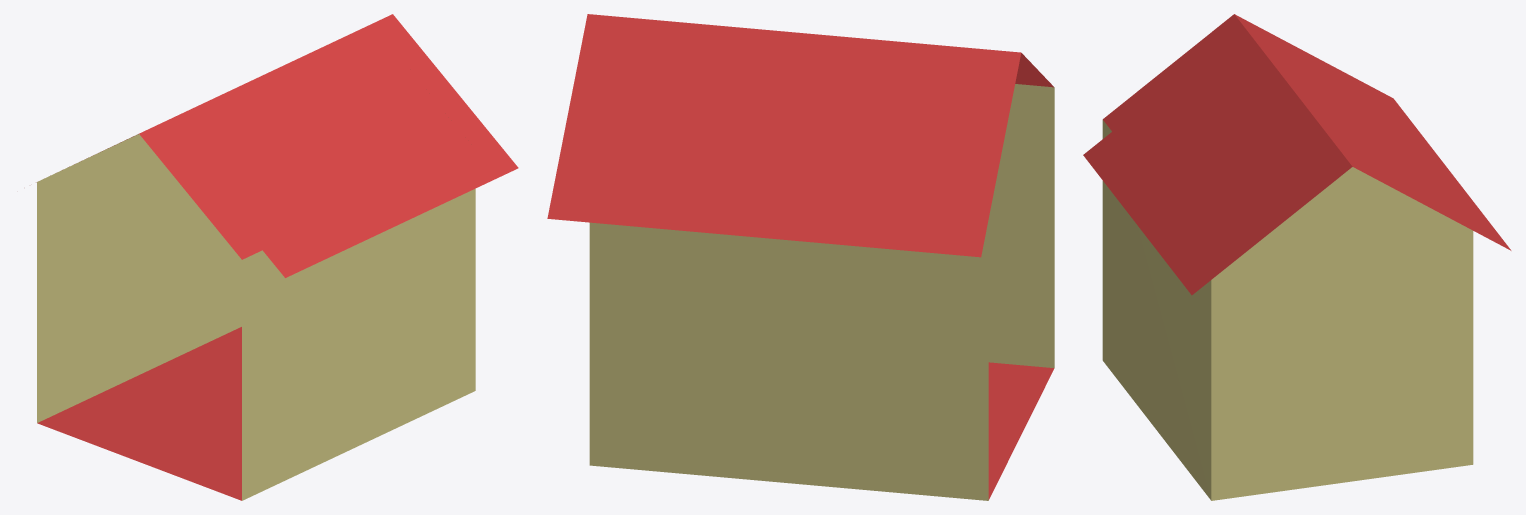
3 views of the same model, side by side, from view 1: azimuth 30°, elevation 25°; view 2: azimuth 150°, elevation 25°; view 3: azimuth 270°, elevation 25° (orthographic). The views are drawn at different scales.
Bounding box in the file's own units: 11.42 × 10.5 × 8.87.
